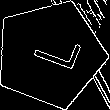L_W: (21, 31, 80, 77)
